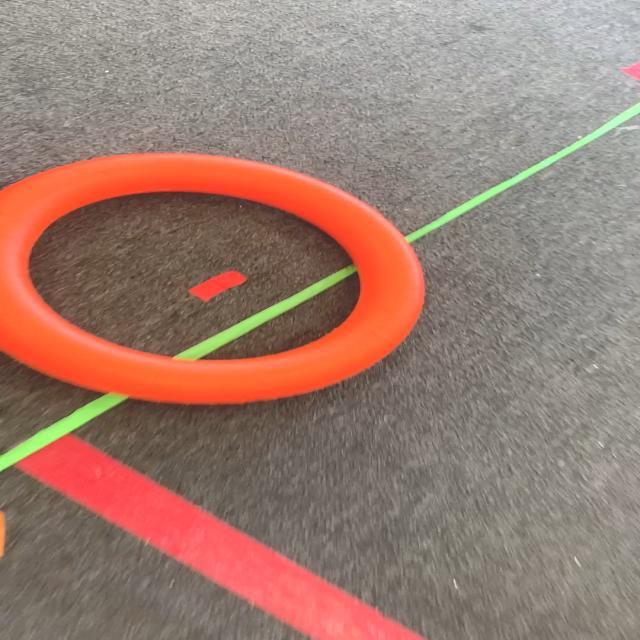notes: (0, 147, 439, 403)
